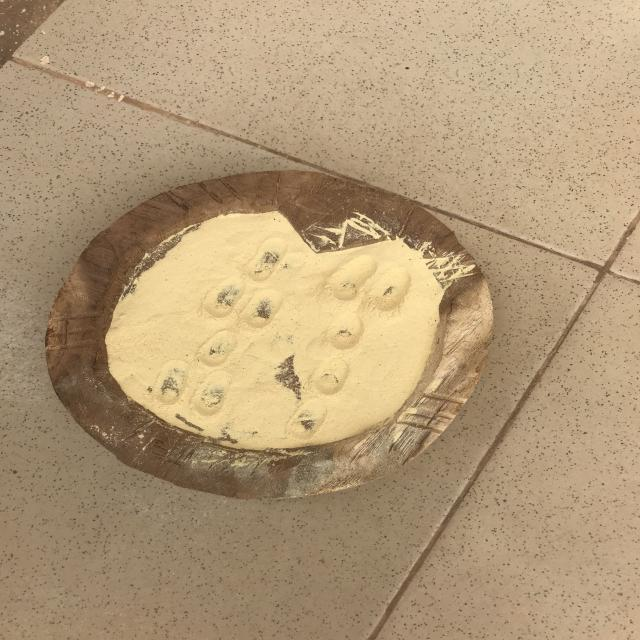double: (194, 278, 296, 328), (326, 256, 418, 310), (146, 364, 241, 414)
single: (238, 236, 296, 281), (282, 398, 332, 442), (192, 326, 243, 366), (310, 354, 356, 396), (324, 312, 368, 351)
